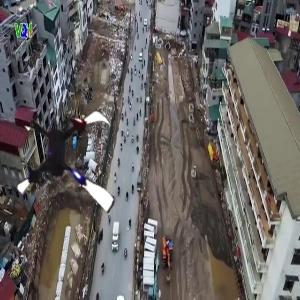drone: (7, 101, 134, 228)
